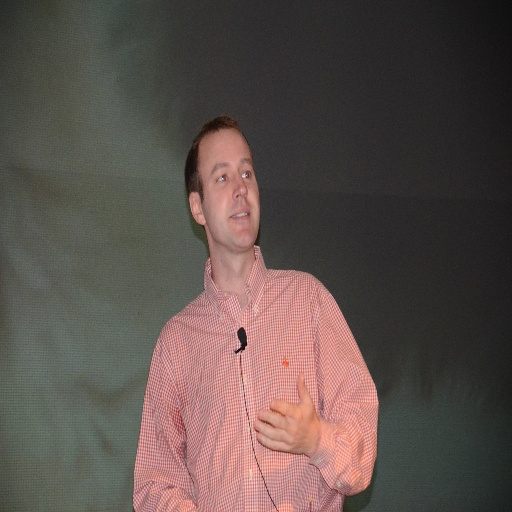hand: (251, 388, 328, 471)
